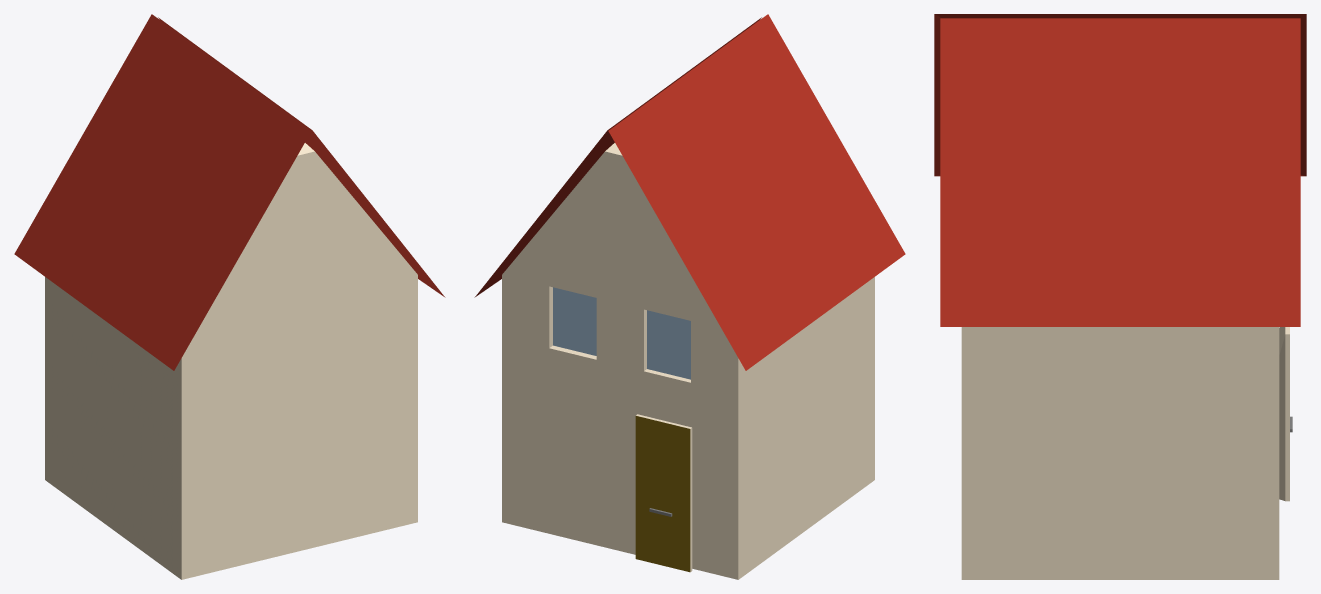
Rendered from huis1.fbx.
3 views of the same model, side by side, from view 1: azimuth 30°, elevation 25°; view 2: azimuth 150°, elevation 25°; view 3: azimuth 270°, elevation 25° (orthographic). The views are drawn at different scales.
Visible parts, largest first — view 1: Cube, Cube.001, Cube.002; view 2: Cube, Cube.001, Cube.002; view 3: Cube.002, Cube, Cube.001.
Part boxes in pixels (x1=…): Cube: x1=45, y1=143, x2=417, y2=579; Cube.001: x1=14, y1=14, x2=311, y2=370; Cube.002: x1=158, y1=17, x2=445, y2=297; Cube: x1=502, y1=143, x2=874, y2=579; Cube.001: x1=608, y1=14, x2=905, y2=370; Cube.002: x1=474, y1=17, x2=761, y2=297; Cube.002: x1=940, y1=18, x2=1300, y2=326; Cube: x1=961, y1=327, x2=1289, y2=579; Cube.001: x1=934, y1=14, x2=1306, y2=176.
Size of the model in its own units: 628 by 939 by 634.
